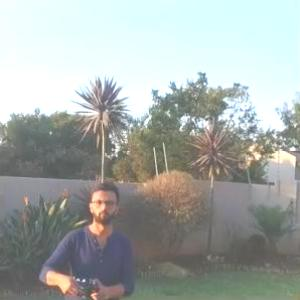follow: (30, 173, 136, 299)
